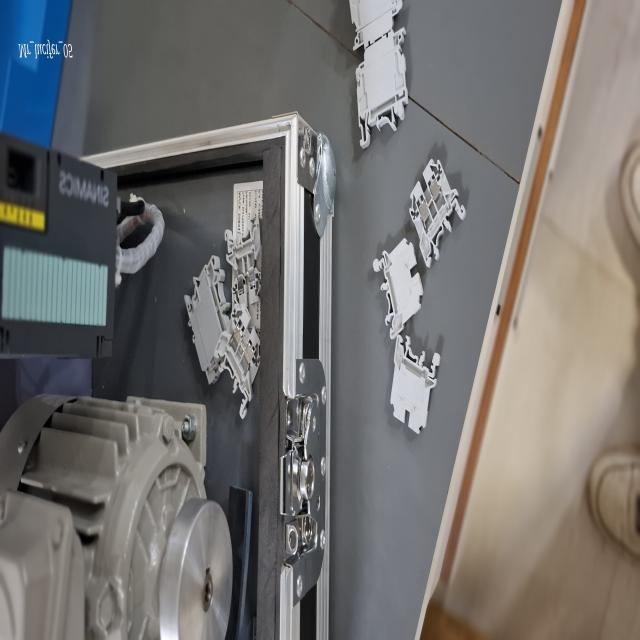Inverted: (356, 25, 410, 156), (372, 236, 426, 342), (390, 332, 442, 438)
Pass: (409, 154, 468, 266), (213, 302, 261, 424)
